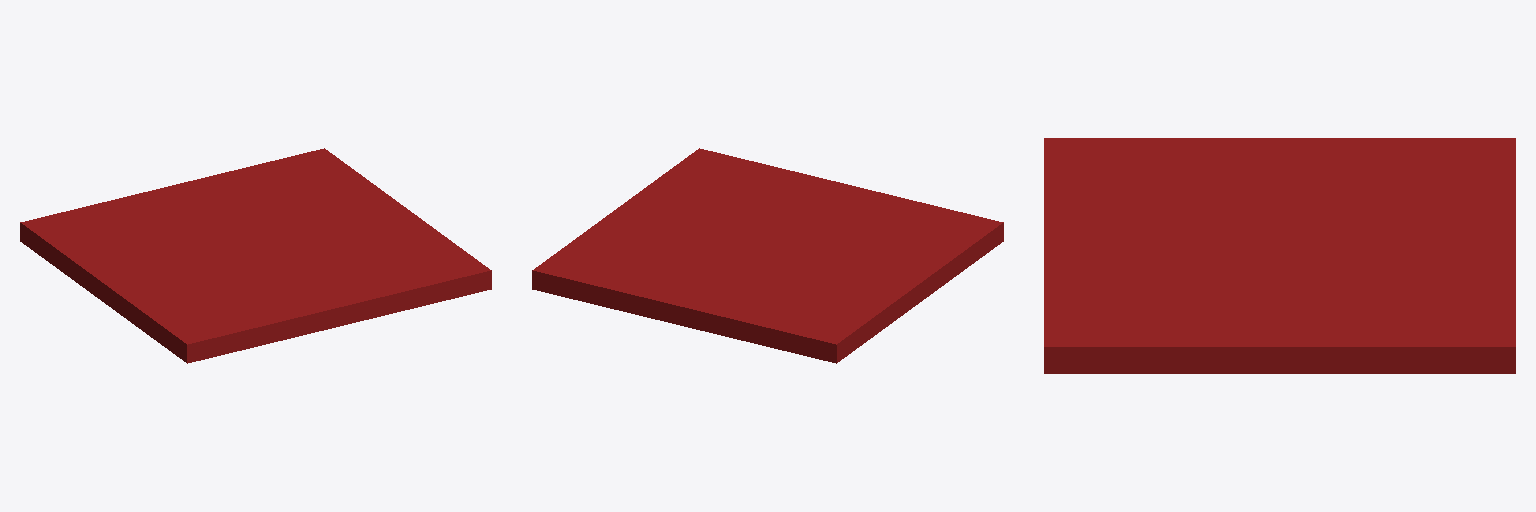
The robot description file, URDF, robot "drcbox-drill-table-0-robot":
<?xml version="1.0"?>
<robot name="drcbox-drill-table-0-robot"
       xmlns:xi="http://www.w3.org/2001/XInclude"
       xmlns:gazebo="http://playerstage.sourceforge.net/gazebo/xmlschema/#gz"
       xmlns:model="http://playerstage.sourceforge.net/gazebo/xmlschema/#model"
       xmlns:sensor="http://playerstage.sourceforge.net/gazebo/xmlschema/#sensor"
       xmlns:body="http://playerstage.sourceforge.net/gazebo/xmlschema/#body"
       xmlns:geom="http://playerstage.sourceforge.net/gazebo/xmlschema/#geom"
       xmlns:joint="http://playerstage.sourceforge.net/gazebo/xmlschema/#joint"
       xmlns:interface="http://playerstage.sourceforge.net/gazebo/xmlschema/#interface"
       xmlns:rendering="http://playerstage.sourceforge.net/gazebo/xmlschema/#rendering"
       xmlns:renderable="http://playerstage.sourceforge.net/gazebo/xmlschema/#renderable"
       xmlns:controller="http://playerstage.sourceforge.net/gazebo/xmlschema/#controller"
       xmlns:physics="http://playerstage.sourceforge.net/gazebo/xmlschema/#physics">
  <gazebo>
    <static>false</static>
  </gazebo>
  <link name="nil_link">
    <visual>
      <origin xyz="0 0 0" rpy="0 -0 0"/>
      <geometry>
        <mesh filename="model://drcbox-drill-table-0/meshes/nil_link_mesh.dae" scale="1 1 1" />
      </geometry>
    </visual>
    <collision>
      <origin xyz="0 0 0" rpy="0 -0 0"/>
      <geometry>
        <mesh filename="model://drcbox-drill-table-0/meshes/nil_link_mesh.dae" scale="1 1 1" />
      </geometry>
    </collision>
    <inertial>
      <mass value="1" />
      <origin xyz="0 0 0" rpy="0 -0 0"/>
      <inertia ixx="1e-03" ixy="0" ixz="0" iyy="1e-03" iyz="0" izz="1e-03"/>
    </inertial>
  </link>
  <gazebo reference="nil_link">
    <mu1>0.9</mu1>
    <mu2>0.9</mu2>
  </gazebo>
</robot>

--- Render facts (derived) ---
Views: 3 orthographic renders of the robot side by side, from view 1: azimuth 30°, elevation 25°; view 2: azimuth 150°, elevation 25°; view 3: azimuth 270°, elevation 25°.
Robot: drcbox-drill-table-0-robot — 1 links, 0 joints (none); root link nil_link; default pose: every joint at zero.
Visible links, largest first — view 1: nil_link; view 2: nil_link; view 3: nil_link.
Boxes of the visible links, x1=… form: nil_link: x1=20, y1=148, x2=491, y2=363; nil_link: x1=532, y1=148, x2=1003, y2=363; nil_link: x1=1044, y1=138, x2=1515, y2=373.
Bounding box of the posed robot: 0.2 × 0.19 × 0.012 m (x, y, z).
1 mesh visuals loaded from 1 distinct referenced files (1 Collada DAE).